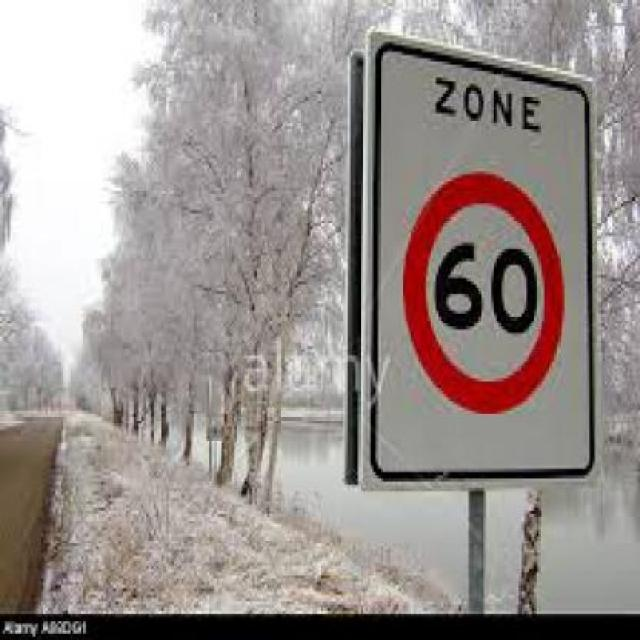forb_speed_over_60: (406, 171, 565, 414)
